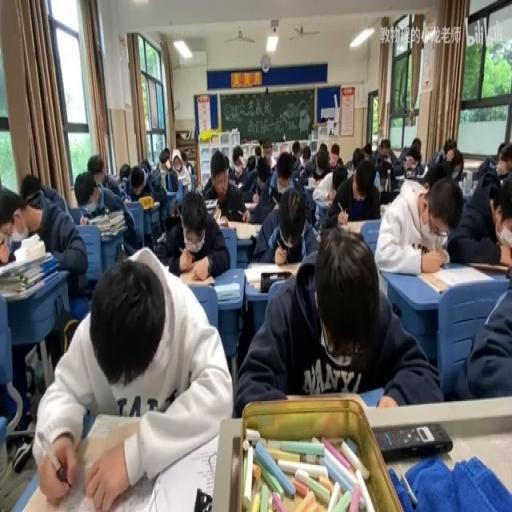calculator: (430, 264, 496, 288), (242, 260, 294, 286), (178, 267, 213, 283), (341, 218, 376, 234), (313, 195, 331, 225), (214, 282, 240, 300), (233, 222, 259, 240), (99, 220, 125, 234), (138, 195, 160, 209), (88, 213, 105, 225), (204, 196, 217, 209), (245, 278, 261, 288), (213, 205, 222, 222), (243, 202, 256, 212), (305, 175, 315, 188), (312, 226, 321, 239), (379, 204, 387, 218), (155, 232, 165, 243), (394, 172, 404, 181), (232, 181, 242, 189)
paper: (34, 249, 233, 509), (234, 228, 434, 415), (10, 173, 89, 303), (375, 171, 461, 276), (154, 188, 229, 278), (448, 158, 510, 264), (251, 184, 316, 264), (327, 156, 381, 222), (129, 162, 169, 240), (87, 155, 125, 202), (0, 186, 24, 260), (424, 138, 459, 179), (373, 138, 401, 188), (202, 149, 227, 199), (234, 145, 258, 196), (472, 144, 502, 180), (396, 136, 422, 175), (298, 144, 320, 180), (162, 159, 178, 192), (276, 158, 292, 186), (328, 142, 342, 171), (118, 162, 132, 188), (256, 158, 270, 183), (332, 171, 346, 192), (352, 145, 365, 166), (316, 151, 328, 172), (290, 139, 300, 161), (362, 141, 372, 159), (497, 141, 506, 161), (414, 162, 426, 176), (140, 160, 150, 176), (379, 142, 389, 156), (222, 152, 230, 168), (254, 145, 262, 161), (374, 170, 380, 190), (262, 145, 271, 158), (445, 144, 454, 156), (270, 155, 278, 168), (181, 150, 188, 164), (150, 160, 158, 170)
person: (373, 422, 451, 461), (193, 488, 212, 509)
